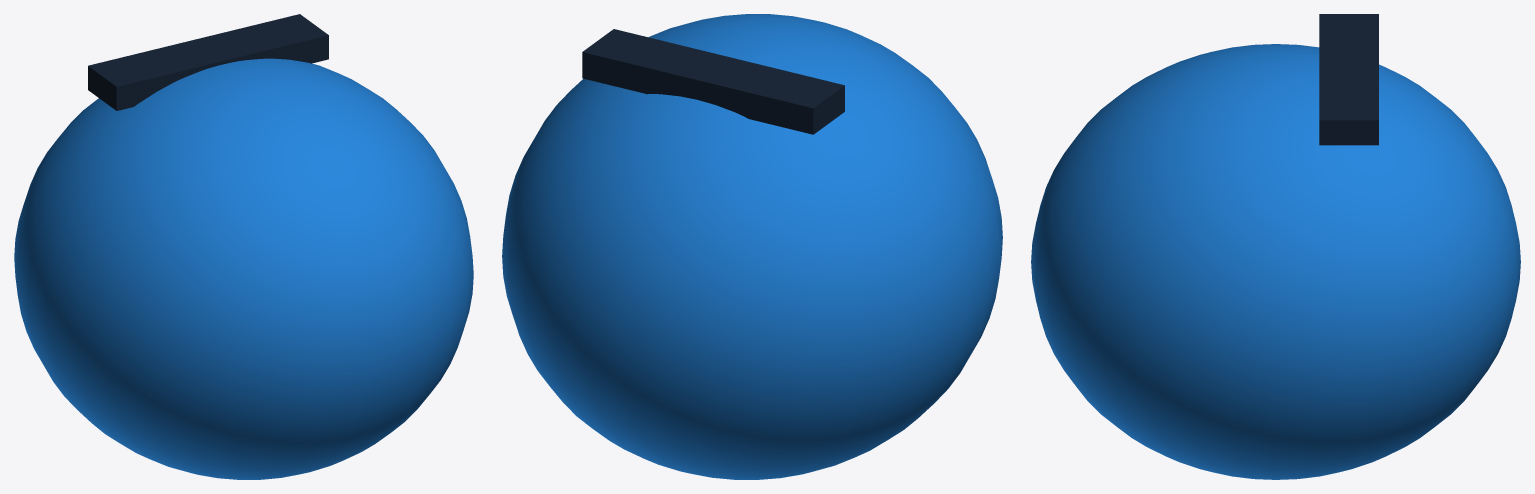
The model's file is player-street.gltf.
The picture shows the model from 3 angles, left to right: view 1: azimuth 30°, elevation 25°; view 2: azimuth 150°, elevation 25°; view 3: azimuth 270°, elevation 25°; orthographic projection. The views are drawn at different scales.
Size of the model in its own units: 2.04 by 1.88 by 2.14.
